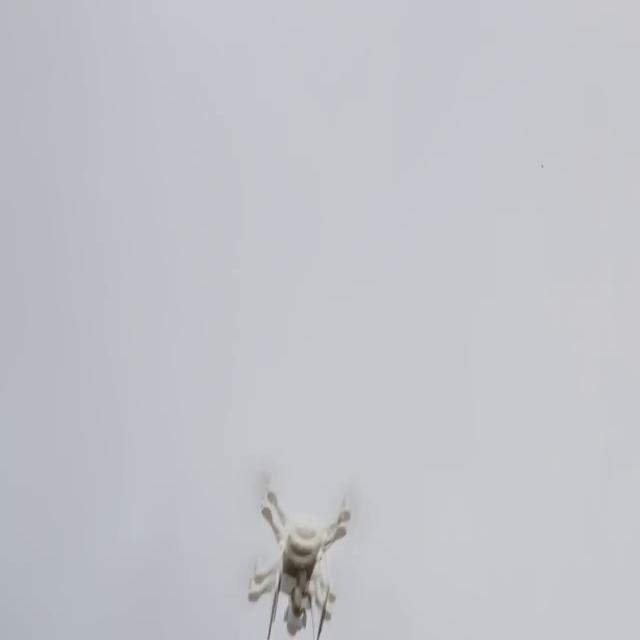drone: (236, 480, 360, 629)
